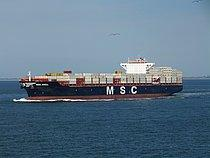Ship: (13, 56, 192, 104)
